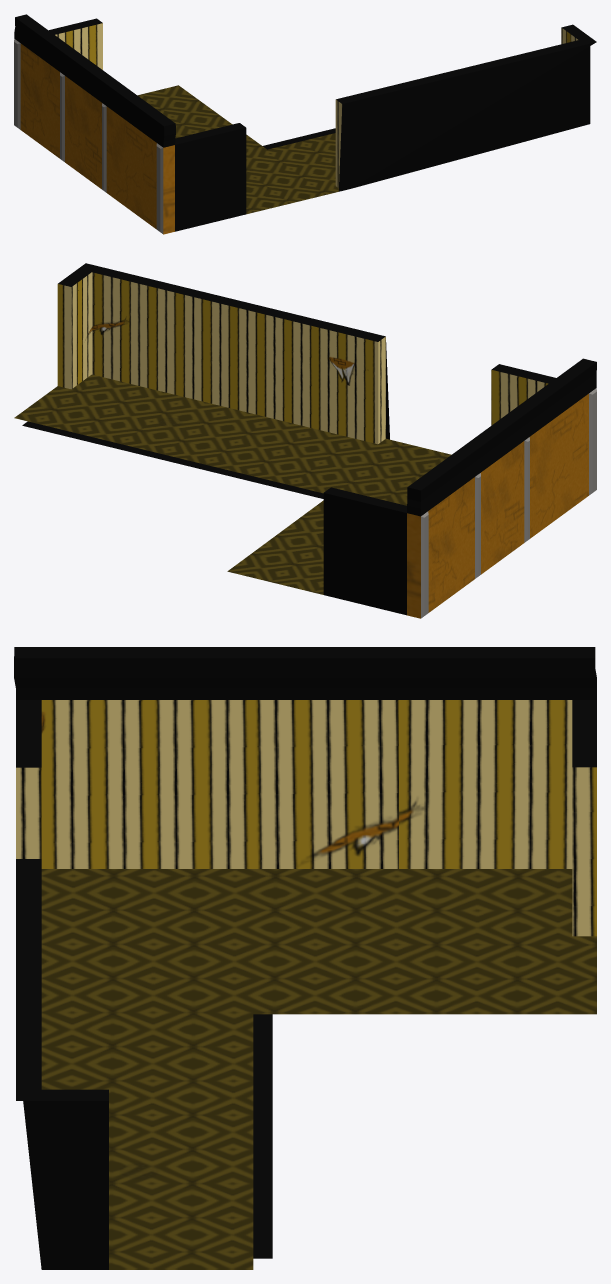
The model's file is Hallway pt 2  .fbx.
3 renders of one model, top to bottom at view 1: azimuth 30°, elevation 25°; view 2: azimuth 150°, elevation 25°; view 3: azimuth 270°, elevation 25°, orthographic. The views are drawn at different scales.
Parts seen in each view (by area): view 1: upstairs hallway pt2; view 2: upstairs hallway pt2; view 3: upstairs hallway pt2.
Part boxes in pixels (x1,y1,x2,y2): upstairs hallway pt2: (14, 14, 596, 234); upstairs hallway pt2: (14, 263, 596, 618); upstairs hallway pt2: (14, 647, 596, 1269).
Bounding box in the file's own units: 1564 × 372 × 932.
